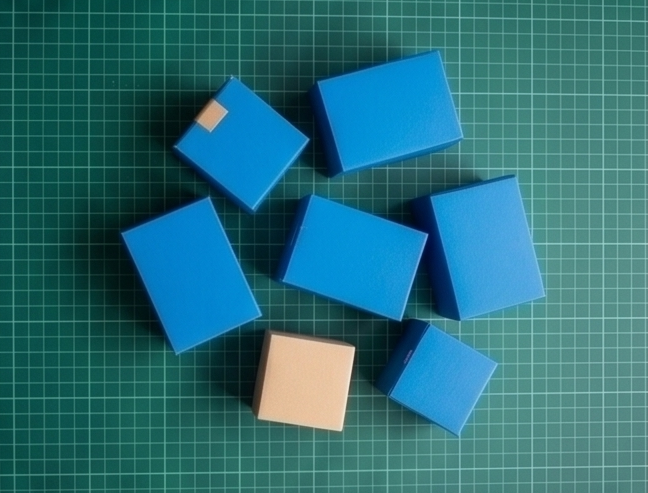blue_box: (386, 133, 531, 296), (220, 172, 378, 300), (101, 170, 237, 318), (183, 310, 333, 443), (340, 281, 475, 419), (154, 55, 278, 172)
